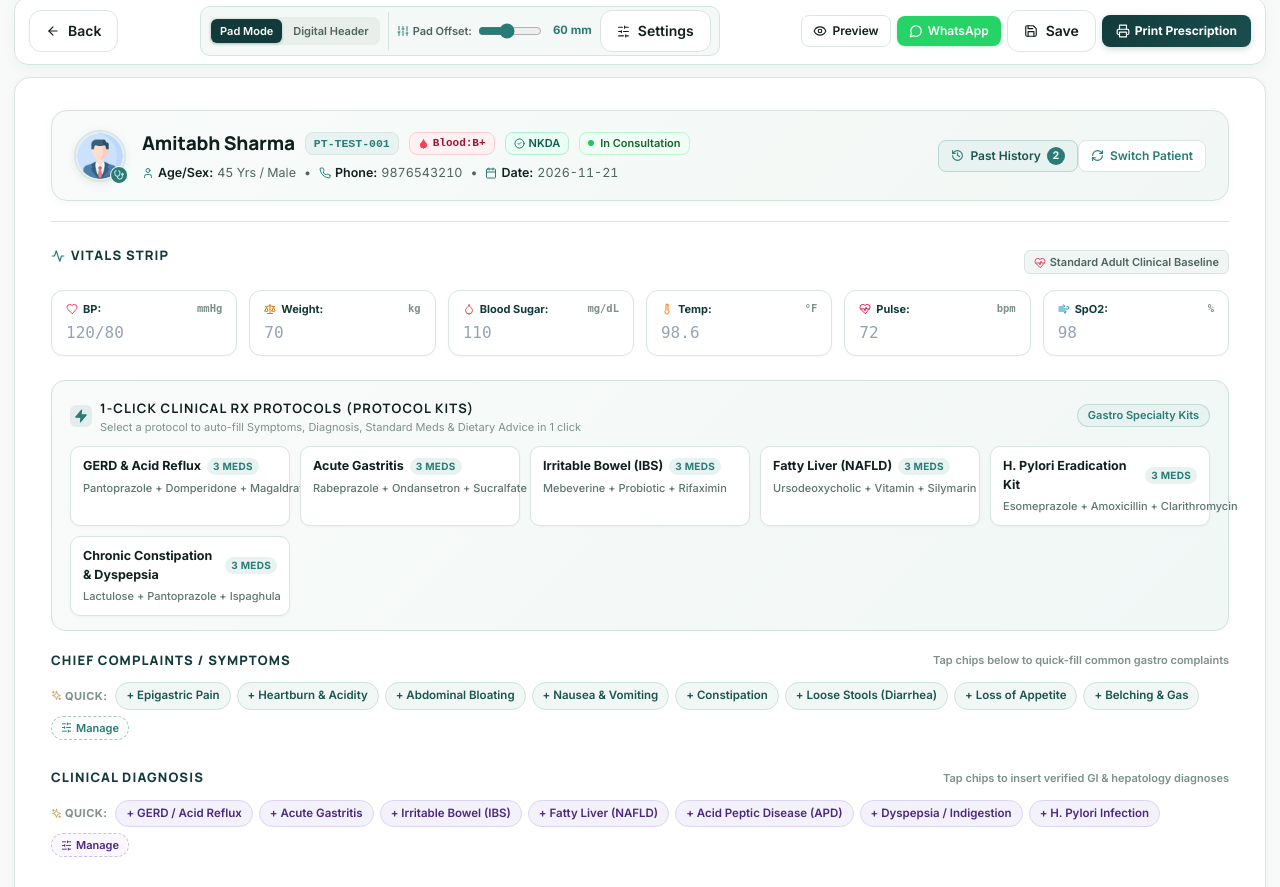
Scenario: Prescription Studio - 1-Click Rx Protocols & Patient Past History Drawer › opens Patient Past History Drawer and allows 1-click repeating past Rx
// Open Past History Drawer
What coordinates should you click on to do the following:
click the button with aria-label "Patient Past Visits History"
I would click on:
 (1008, 156)
Its box is [938,140,1078,172].
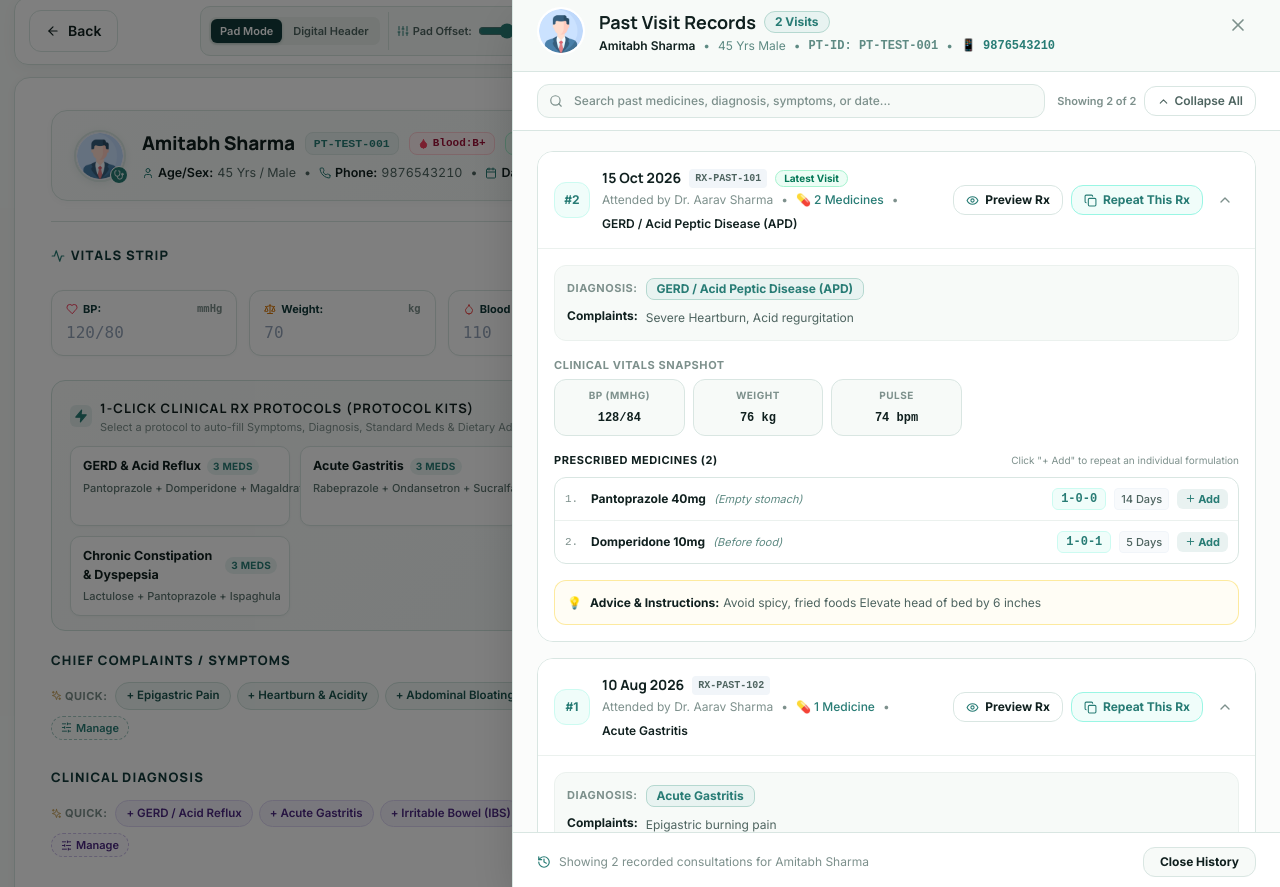
Expected: the heading "Past Visit Records" is shown, [599,8,756,36]
Expected: the text "RX-PAST-101" is shown, [689,168,767,188]
Expected: the text "Severe Heartburn, Acid regurgitation" is shown, [646,308,854,328]
What coordinates should you click on to do the following:
click the button "Repeat This Rx" below "Latest Visit"
I would click on:
 (1137, 200)
Its box is [1071,185,1203,215].
(page scrolled)
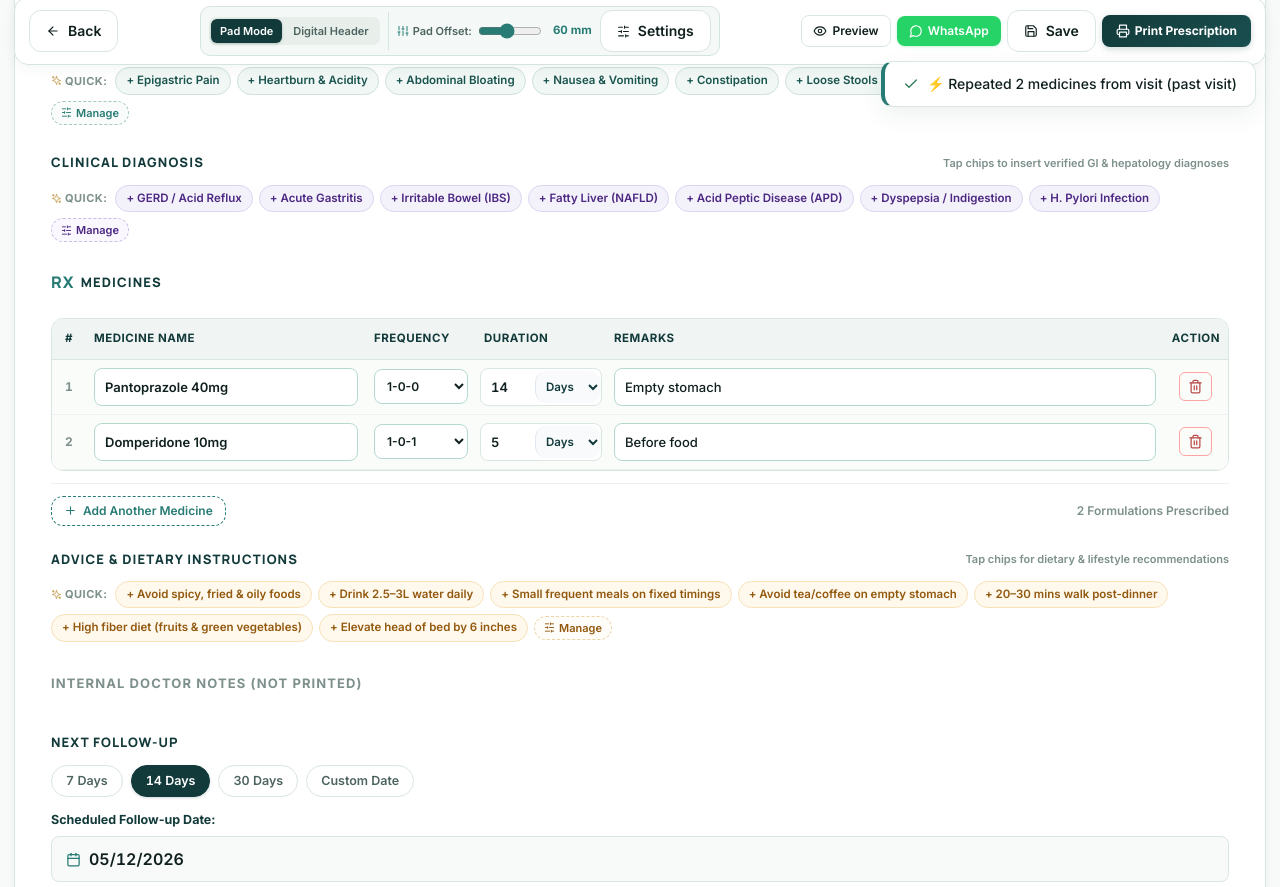
Expected: the heading "Past Visit Records" is gone
Expected: the text "⚡ Repeated 2 medicines from visit (past visit)" is shown, [927,74,1237,94]
Expected: the 1st dropdown showing "Pantoprazole 40mg" is shown, [94,368,358,406]
